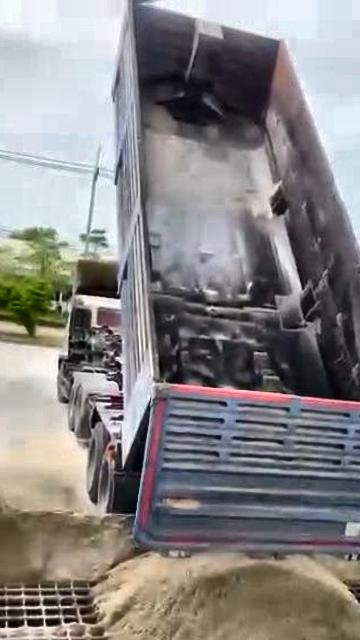sand: (0, 501, 360, 640), (3, 623, 105, 640)
